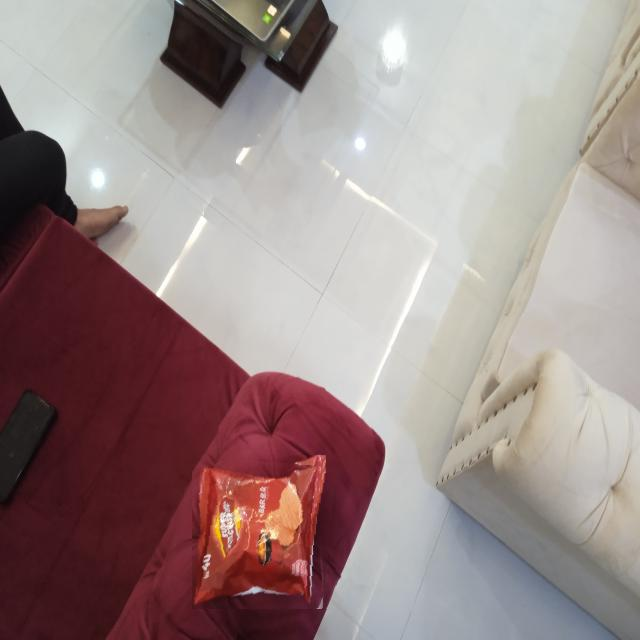Plastic: (192, 456, 336, 610)
